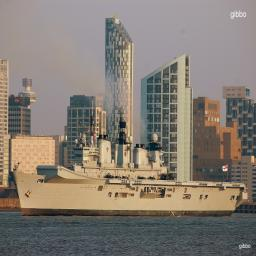Portanaves: (9, 110, 249, 220)
